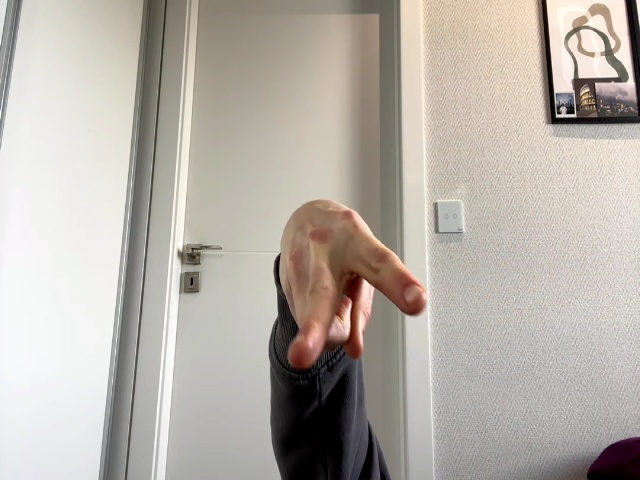U: (282, 199, 427, 368)
